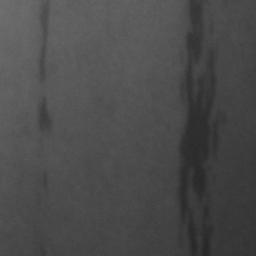Inclusion: (178, 0, 220, 256), (40, 0, 50, 79), (38, 97, 55, 133)
